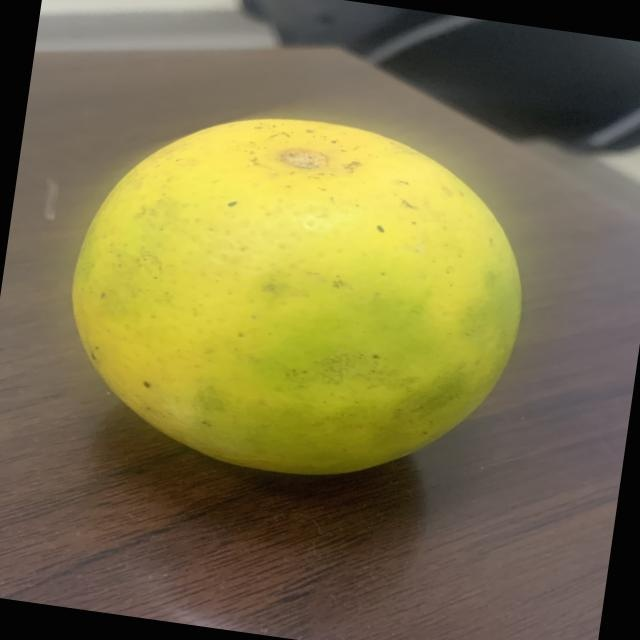agrume: (40, 79, 553, 513)
